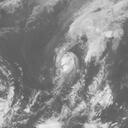cyclone: (53, 50, 83, 81)
